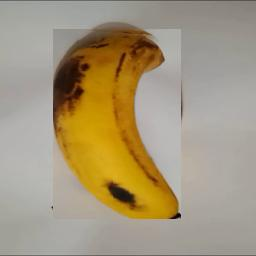Banana Semifresh: (53, 29, 181, 219)
